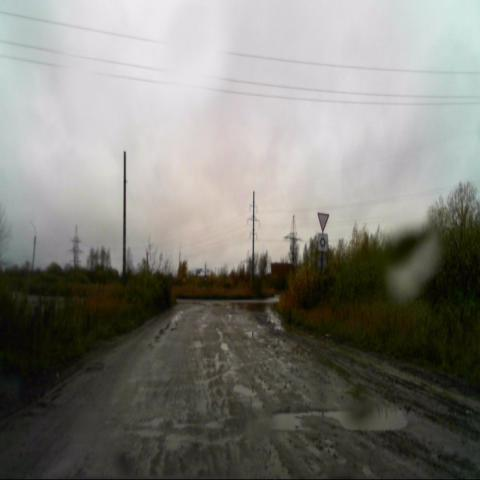2_4: (316, 212, 330, 232)
8_13_1: (317, 233, 328, 251)
